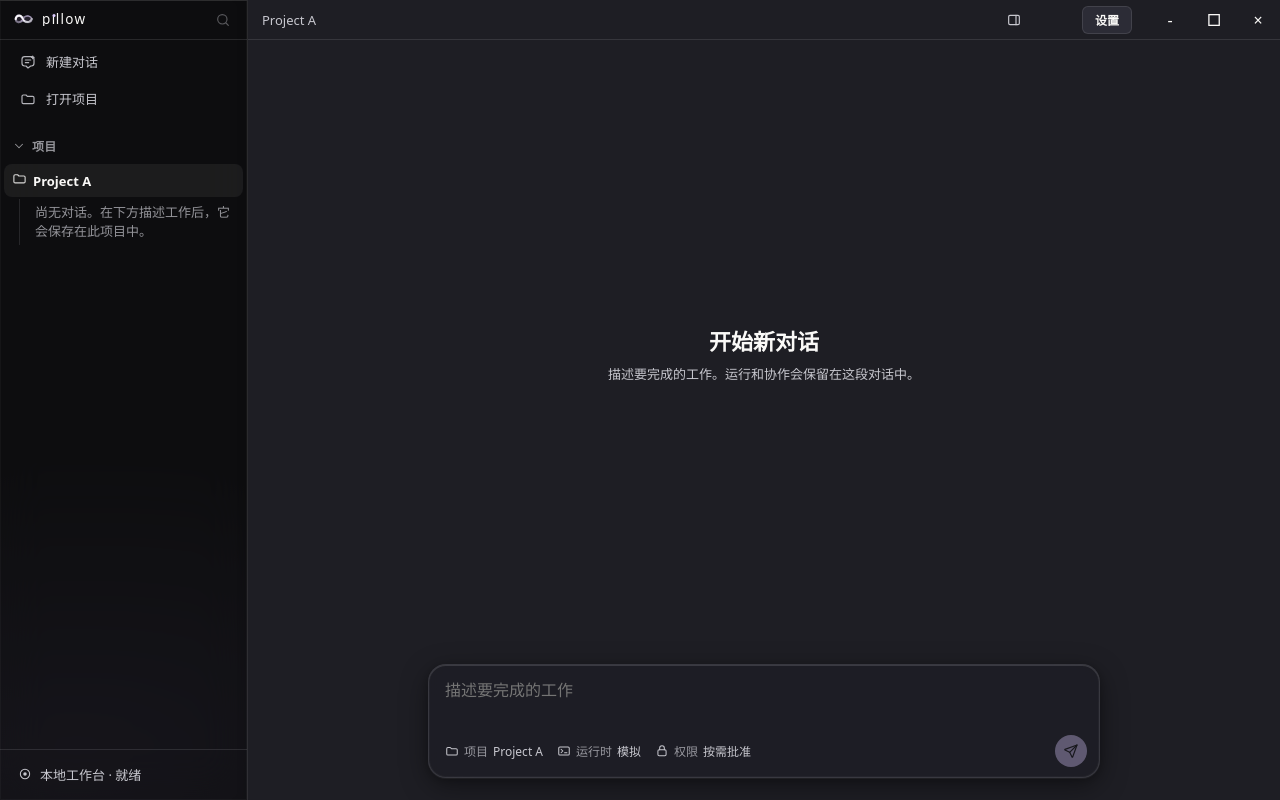
Test: resource workbench integration (C2-D) › opening with project A loads list/recents only for project A
Expected: the heading "Project A" is shown, [262,10,316,28]
Click the button with test id "resource-toggle" at (1014, 20), box [1000,6,1028,34]
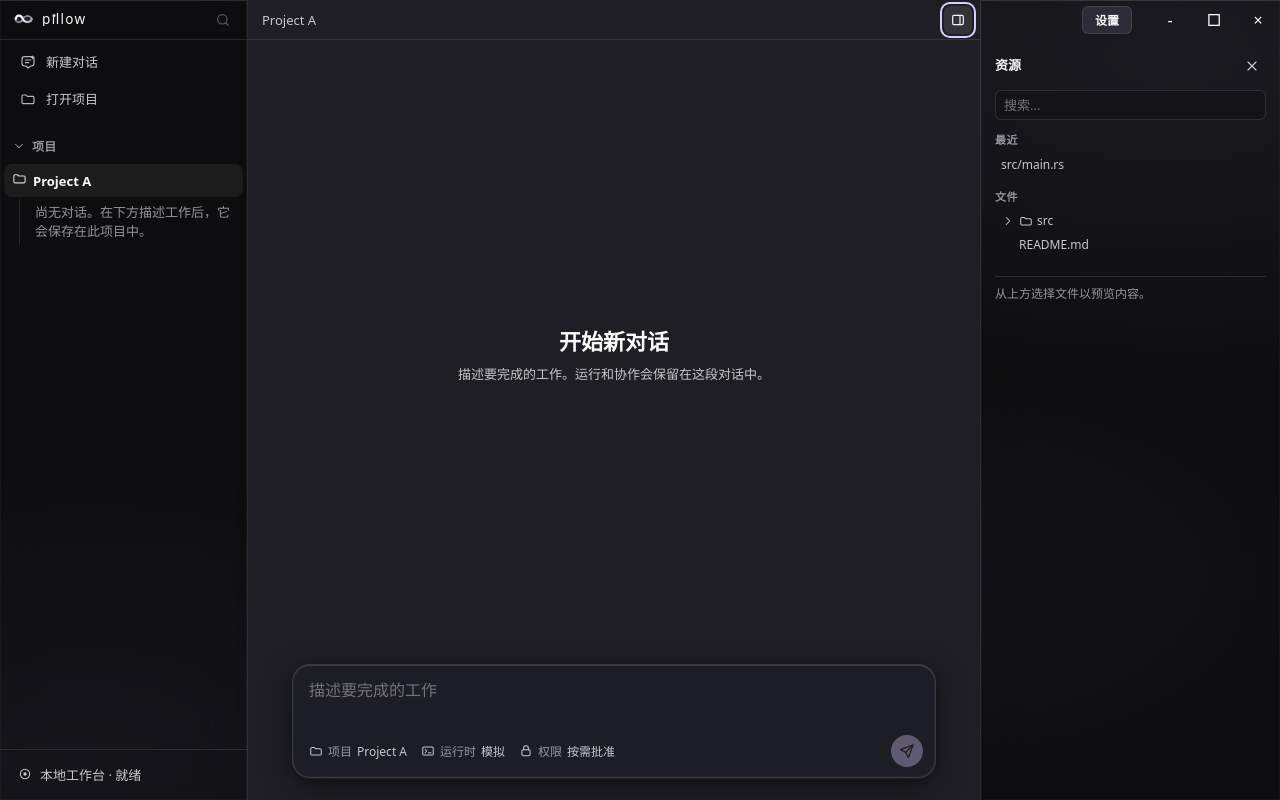
Expected: the heading "资源" is shown, [995,56,1021,76]
Expected: the button named "关闭资源面板" in the row of "资源" is shown, [1238,52,1266,80]
